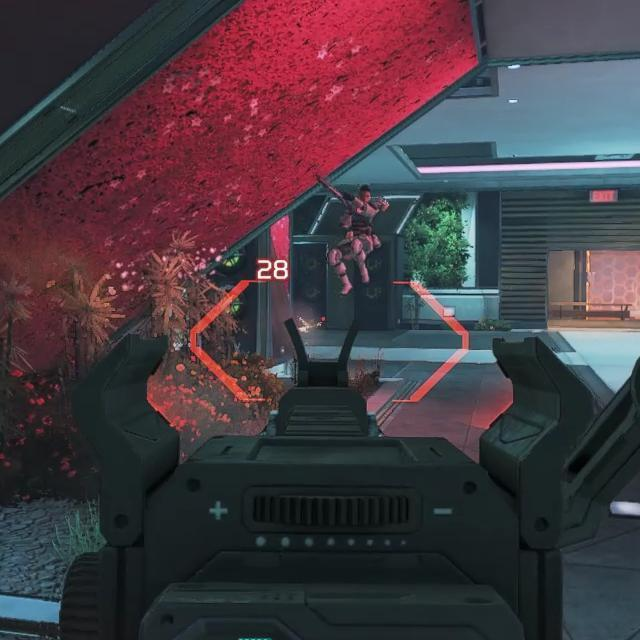avatar: (327, 183, 391, 297)
